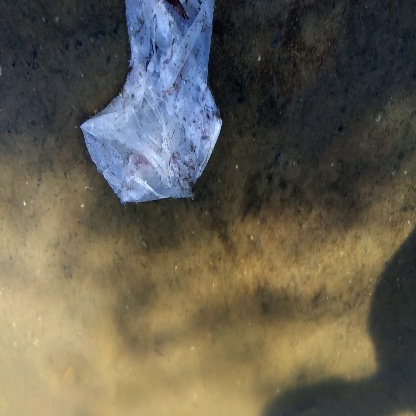plastic-bag: (78, 1, 225, 202)
